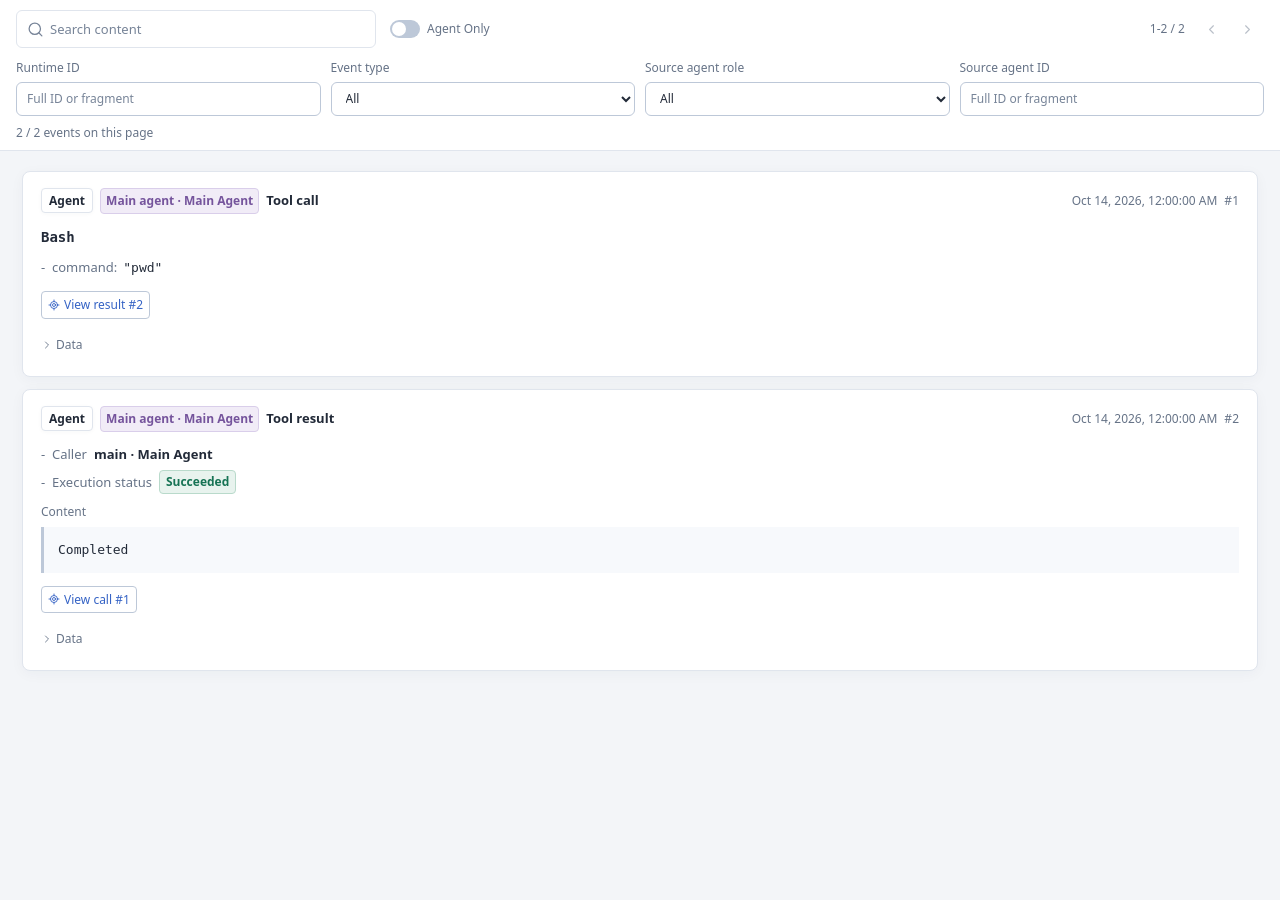
Test: clears filters when jumping to a linked tool event
expect the text "Completed" is shown: met, box [41, 527, 1239, 573]
Step 1. Select "Tool result · agent.tool_result" in the dropdown labelled "Event type" → (483, 99), box [330, 82, 635, 116]
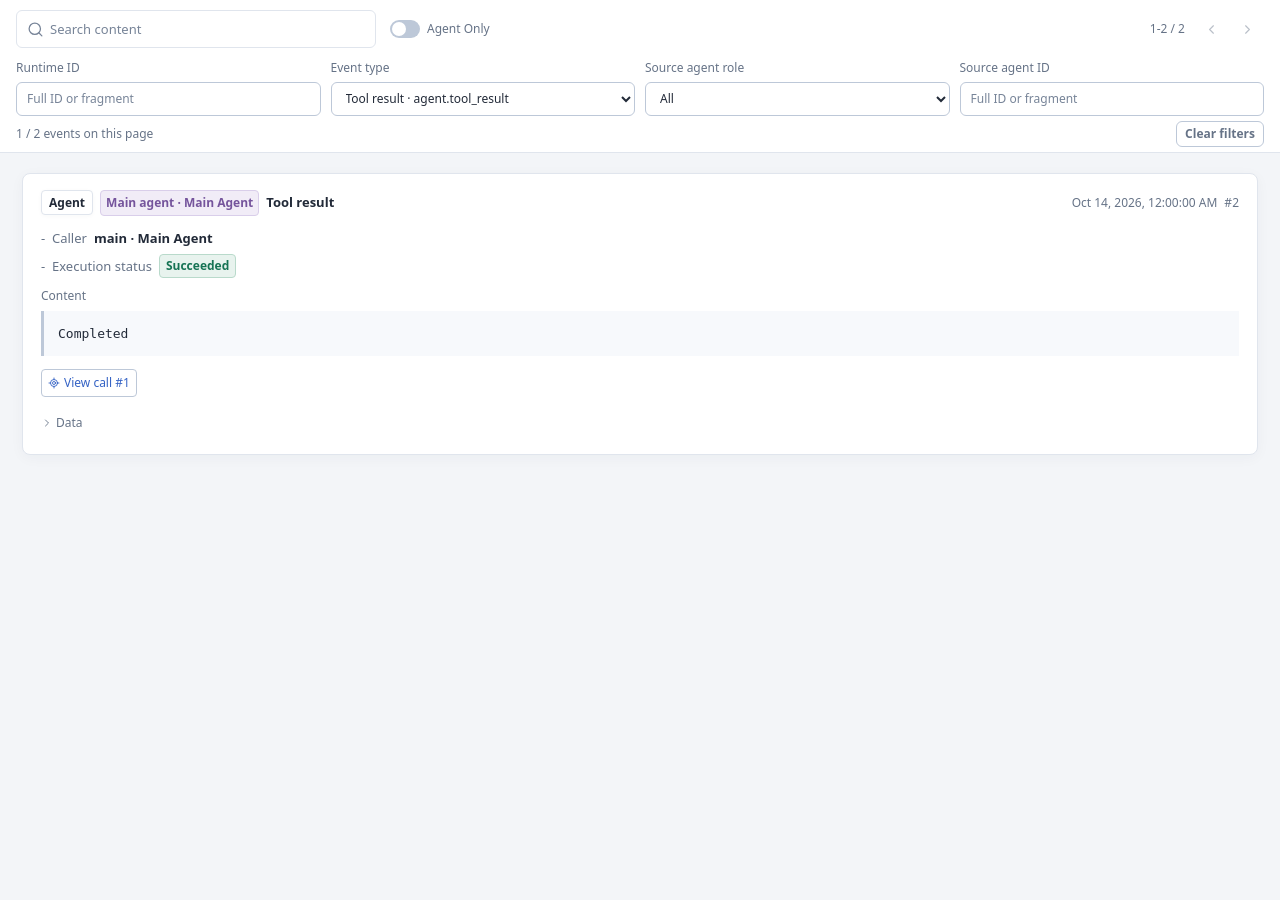
expect the number of elements with class "event-row" is 1: met, box [22, 173, 1258, 455]
Step 2. Click the button "View call #1" → (89, 383), box [41, 370, 137, 397]
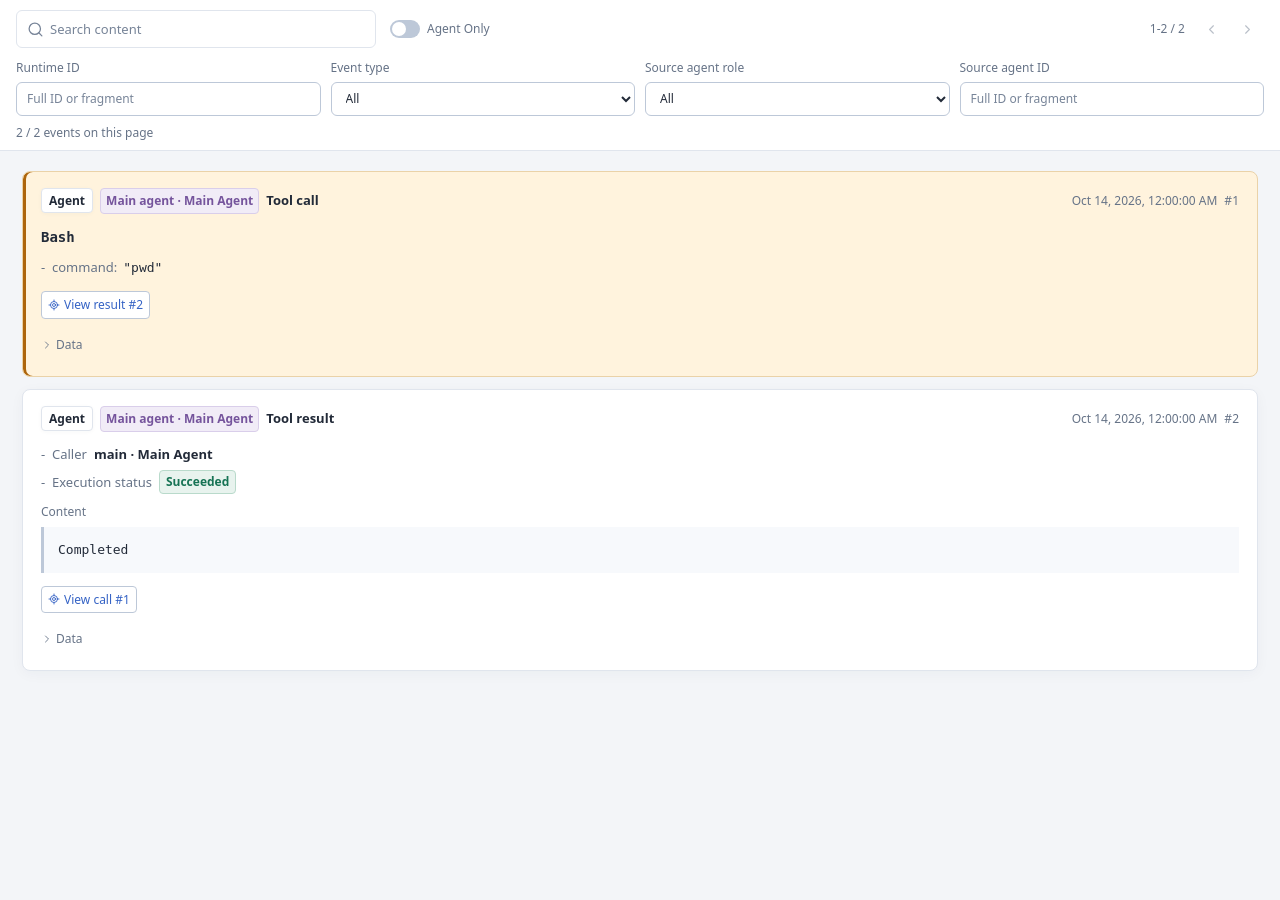
expect the number of elements with class "event-row" is 2: met, box [22, 171, 1258, 377]; [22, 389, 1258, 671]
